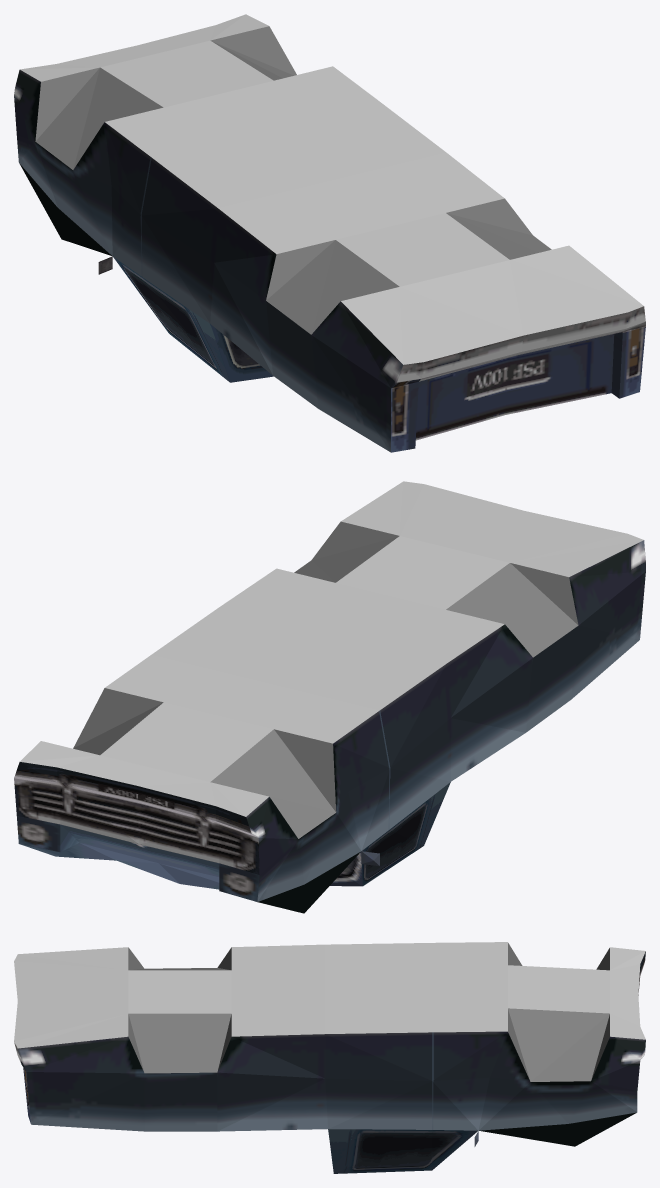
Rendered from VEGAS_model12_damaged.obj.
3 renders of one model, top to bottom at view 1: azimuth 30°, elevation 25°; view 2: azimuth 150°, elevation 25°; view 3: azimuth 270°, elevation 25°, orthographic. The views are drawn at different scales.
Parts seen in each view (by area): view 1: VEGAS_model12_damaged; view 2: VEGAS_model12_damaged; view 3: VEGAS_model12_damaged.
Boxes of the visible parts, x1,y1,x2,y2 form: VEGAS_model12_damaged: (14, 14, 645, 452); VEGAS_model12_damaged: (14, 481, 645, 913); VEGAS_model12_damaged: (14, 942, 645, 1173).
Bounding box in the file's own units: 276 × 178 × 668.
